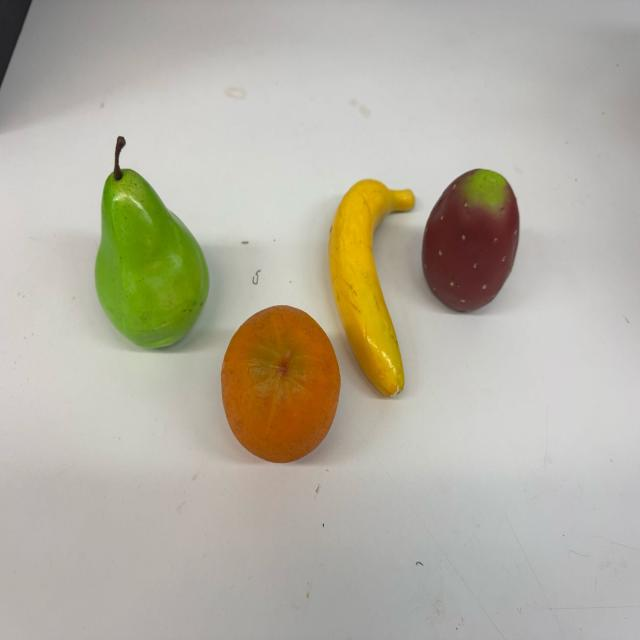banana: (329, 178, 414, 398)
orange: (220, 304, 341, 464)
pear: (93, 138, 210, 350)
tuna: (420, 169, 520, 313)
